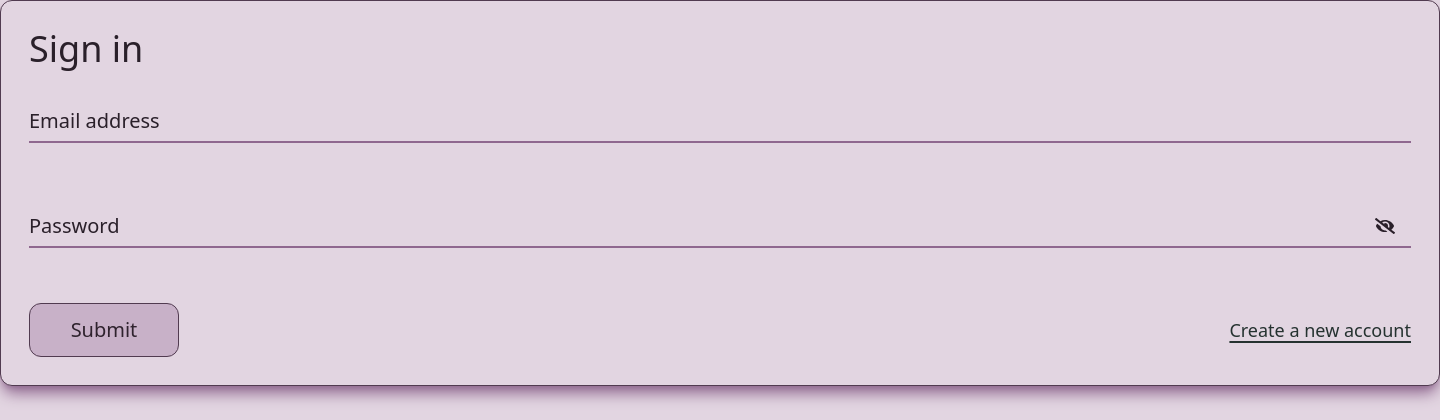
Scenario: AuthForm › existing email error message displays when user tries to submit the form with an existing email
Click the button "Create a new account". click: [1320, 330]
box: [1229,303,1411,357]
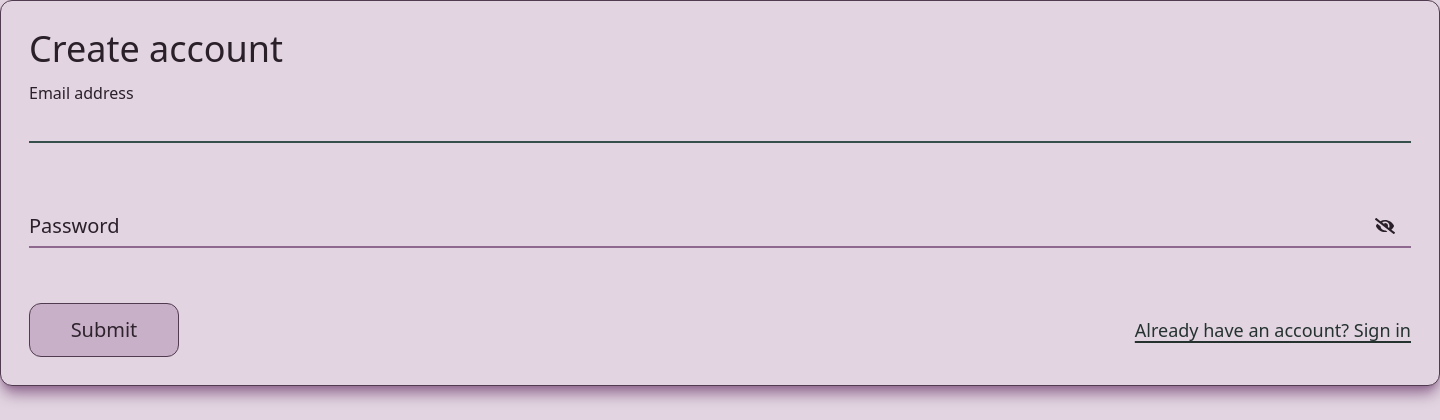
Type "user@example.com" into the field with test id "text-input". click: [720, 120]
box: [29,97,1411,143]
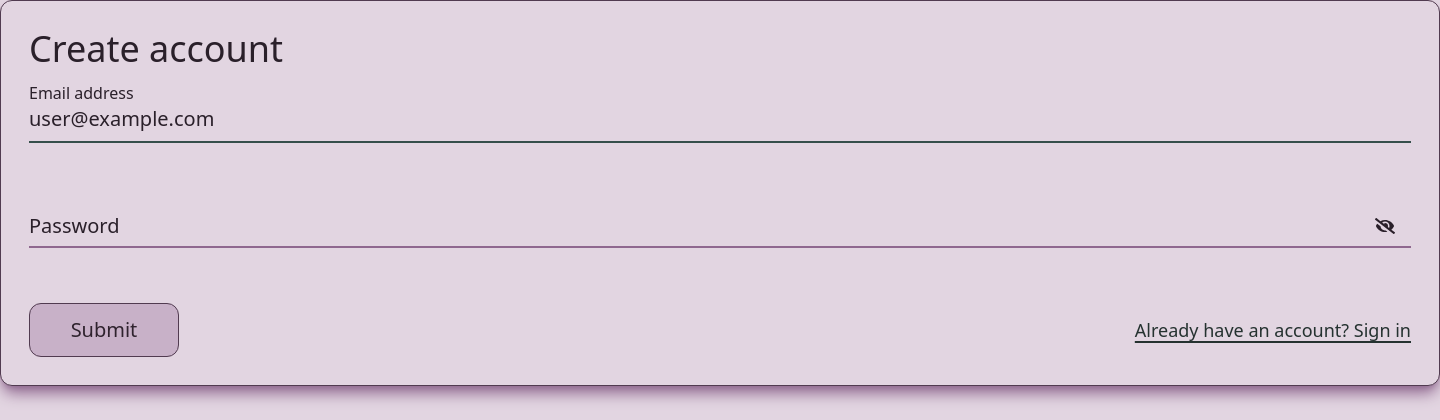
Type "fjdlsajrlf3495j" into the password field with test id "text-input". click: [720, 225]
box: [29,202,1411,248]
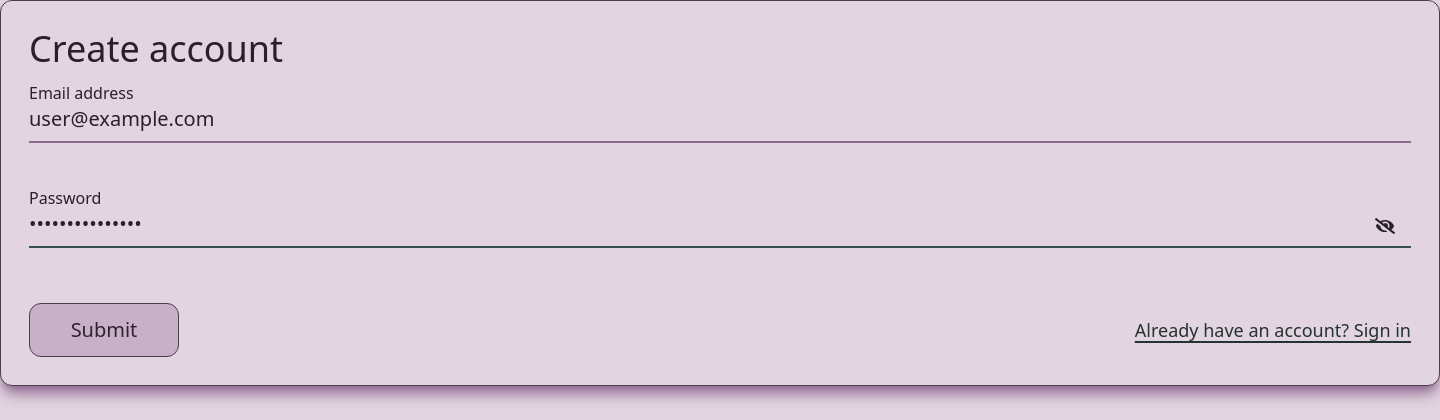
Click the button "Submit". click: [104, 330]
box: [29,303,179,357]
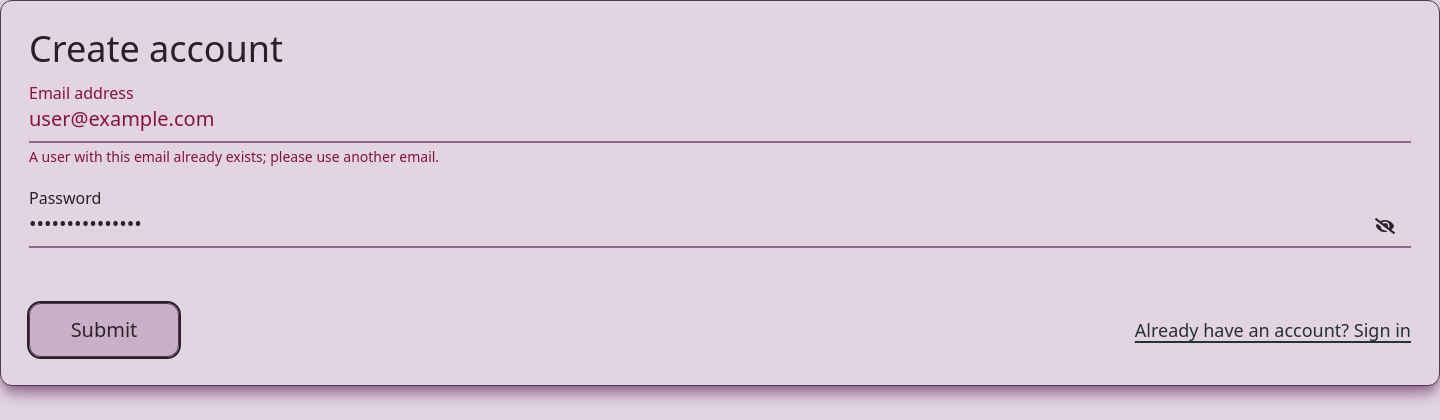
Check: the text "A user with this email already exists" is shown, box [29,147,439,166]
